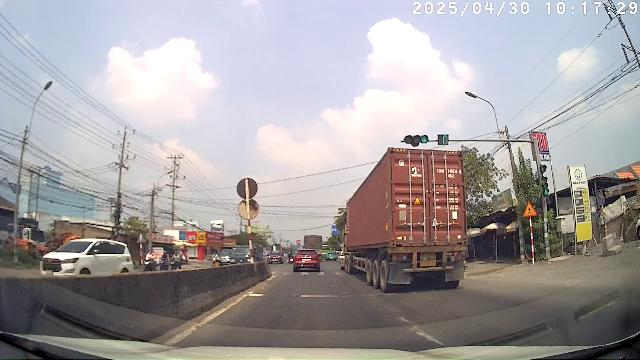102-cam-di-nguoc-chieu: (296, 239, 301, 244)
302a-huong-phai-di-vong-chuong-ngai-vat-1: (296, 244, 301, 248)
